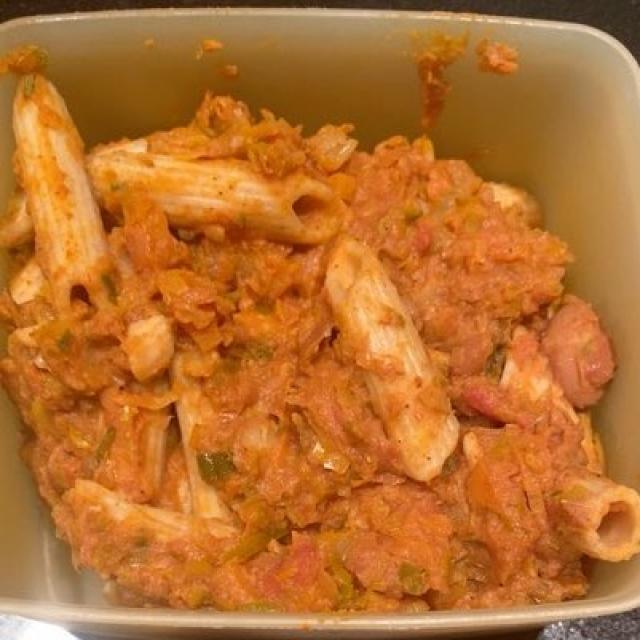pasta: (4, 94, 617, 607)
tomato-sauce: (4, 102, 622, 610)
